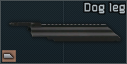AK TWS Dog Leg Rail dust cover: (0, 0, 127, 64)
